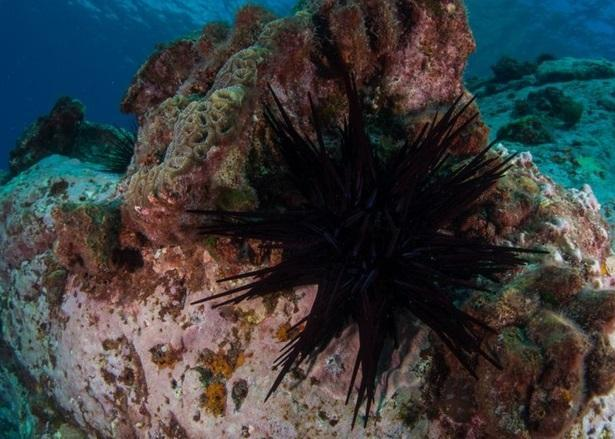urchin: (179, 87, 553, 432)
